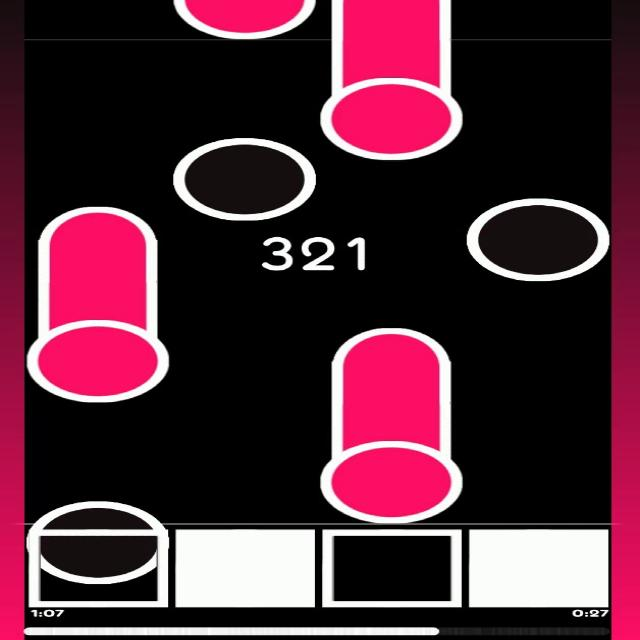end_hold: (31, 195, 170, 248), (326, 315, 459, 369)
note: (174, 135, 314, 221), (28, 498, 166, 584), (469, 196, 604, 282)
start_hold: (25, 301, 174, 404), (316, 66, 474, 162), (318, 424, 469, 524), (171, 0, 316, 40)
